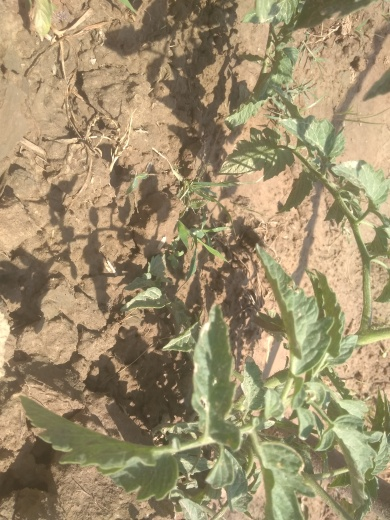tomato diseased leaf: (186, 308, 239, 441)
tomato plant: (28, 285, 354, 514)
